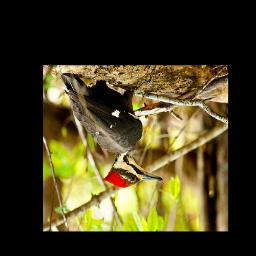Woodpecker: (60, 73, 164, 187)
